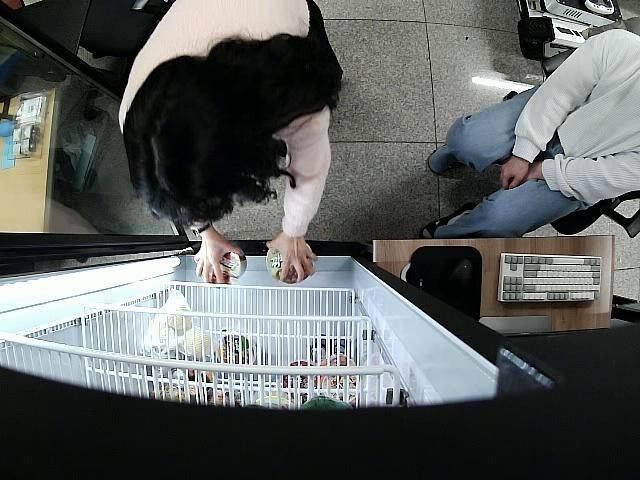03_chapagetti_L: (265, 244, 314, 283), (214, 250, 246, 282)
